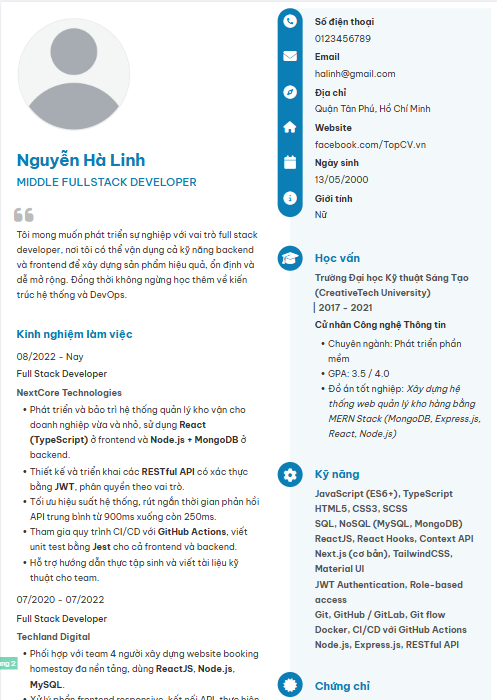address: (313, 86, 434, 116)
gpa: (319, 367, 393, 379)
level: (12, 171, 61, 189)
position: (61, 172, 200, 189)
skill: (308, 453, 488, 654)
